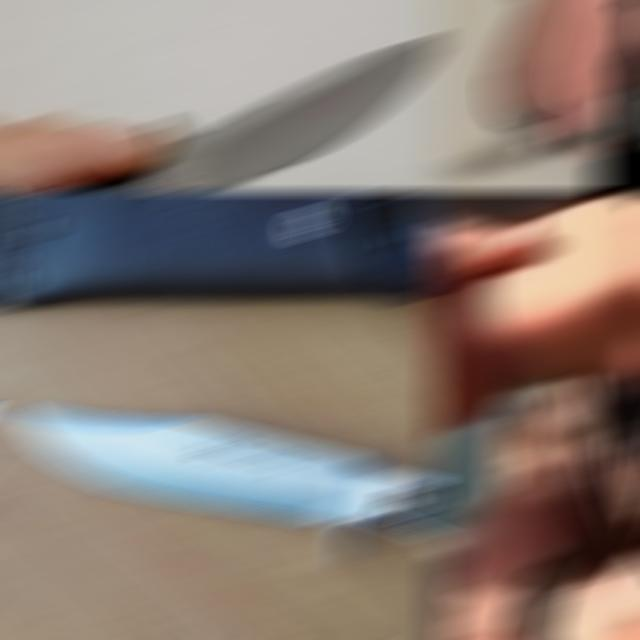Knife: (10, 409, 442, 558), (75, 37, 442, 190)
Knife_Handle: (429, 2, 638, 181)
